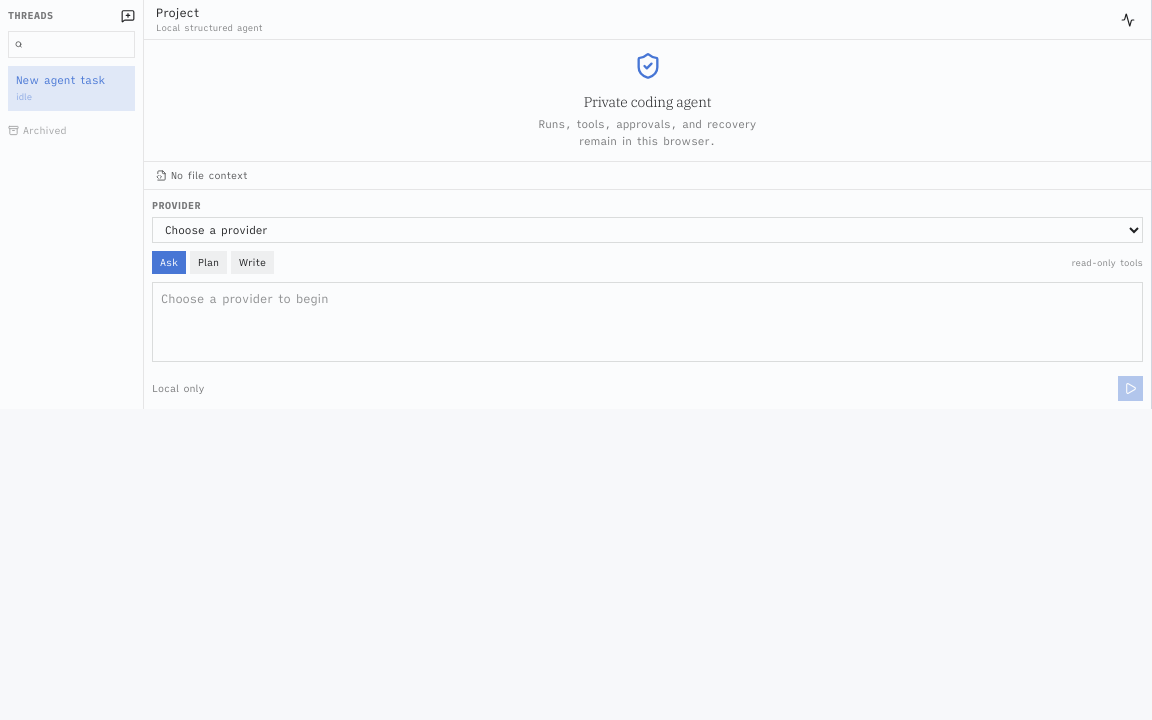
Scenario: AgentWorkspace › discloses exactly which files leave the browser, excluding credential paths
Select "Demo — deterministic echo (not a model)" in the dropdown named "Model provider" at (648, 230), box [152,217,1143,243]
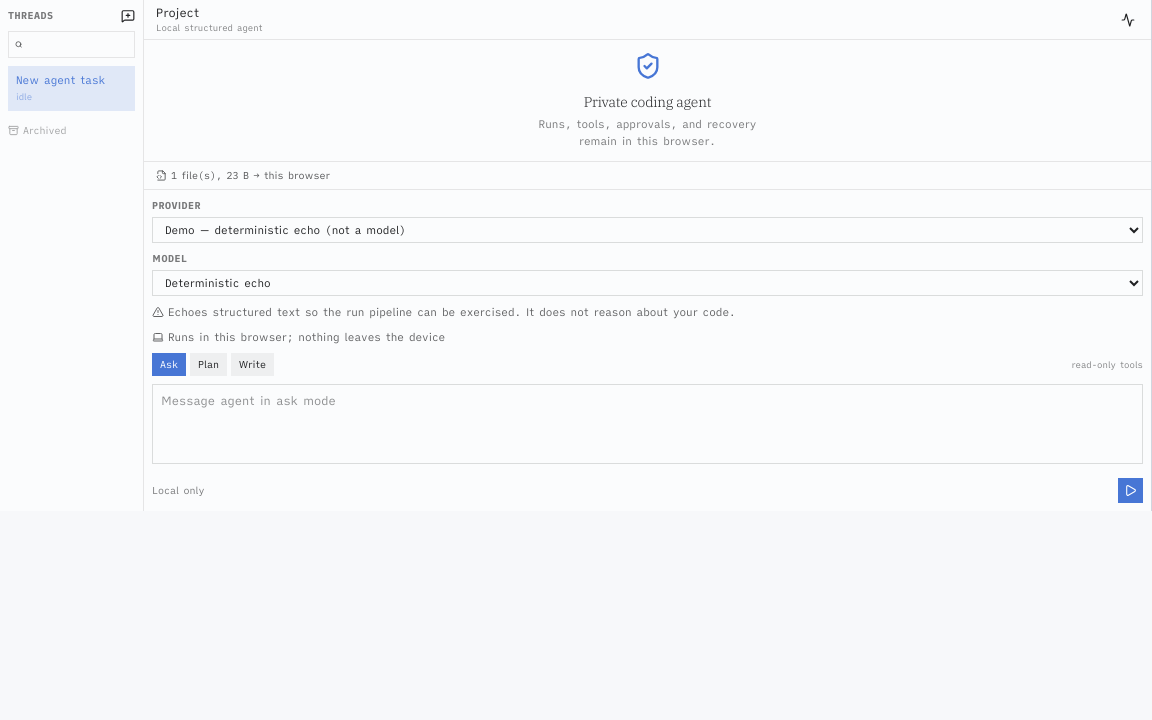
Click the button "1 file(s), 23 B → this browser" at (250, 176), box [156,168,1139,183]
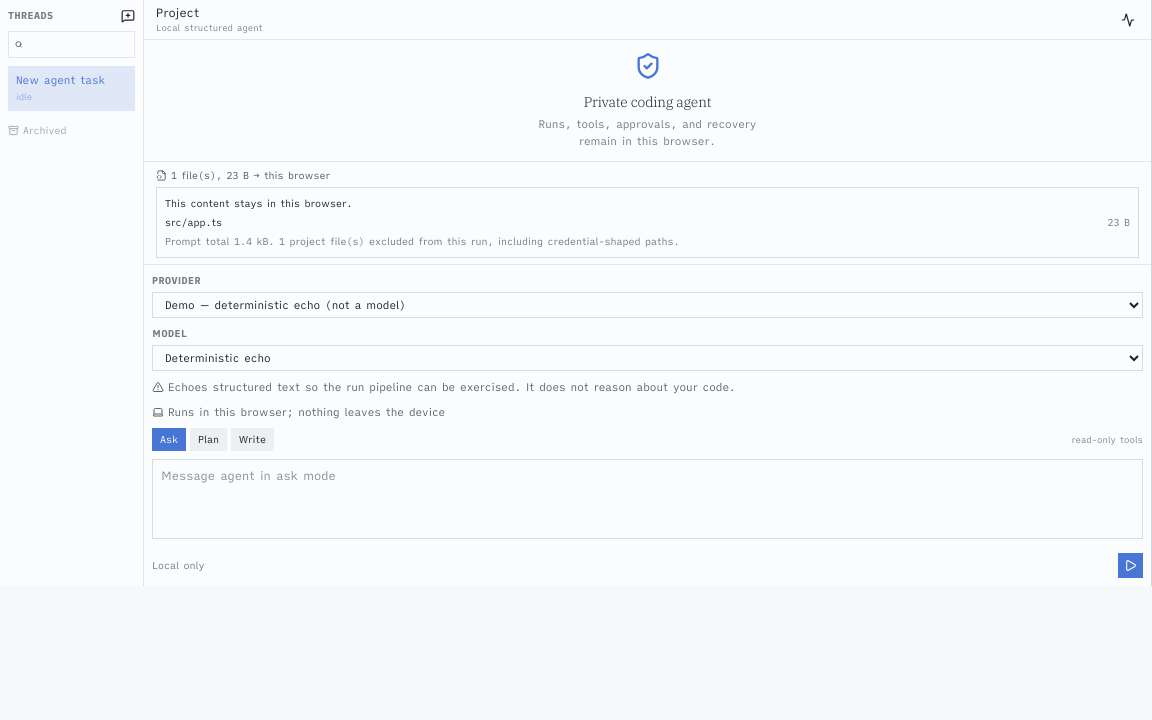
Now the text "src/app.ts" is shown, box [165,215,222,230]
Now the text "credential-shaped paths" is shown, box [279,235,680,248]
